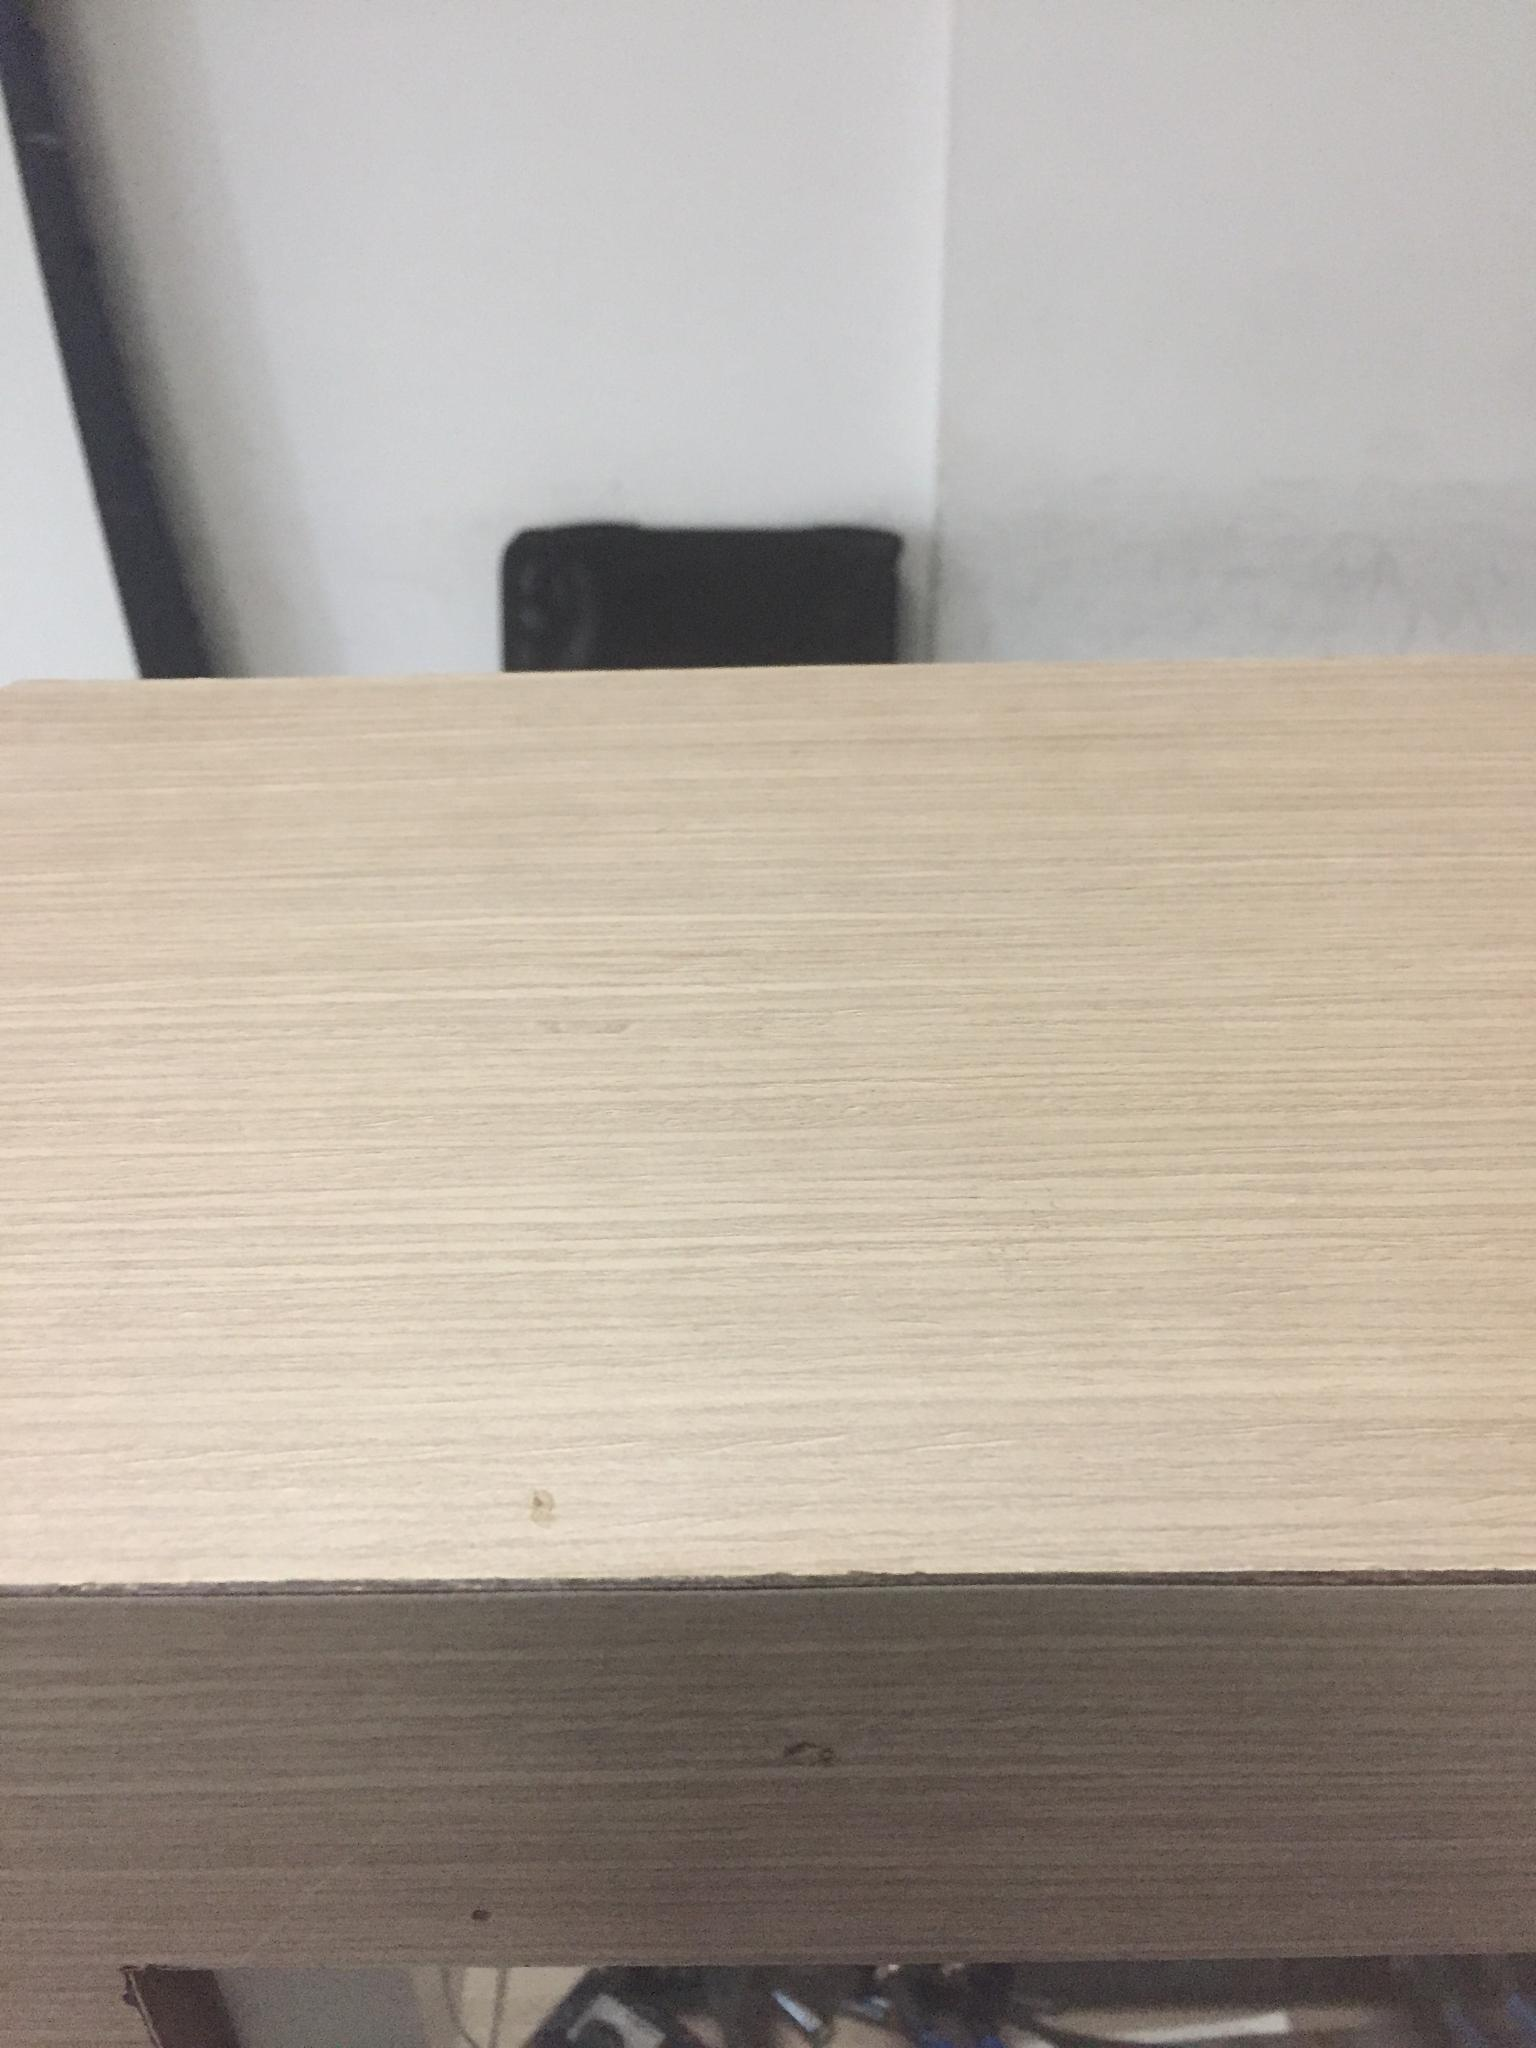chair: (499, 521, 905, 671)
